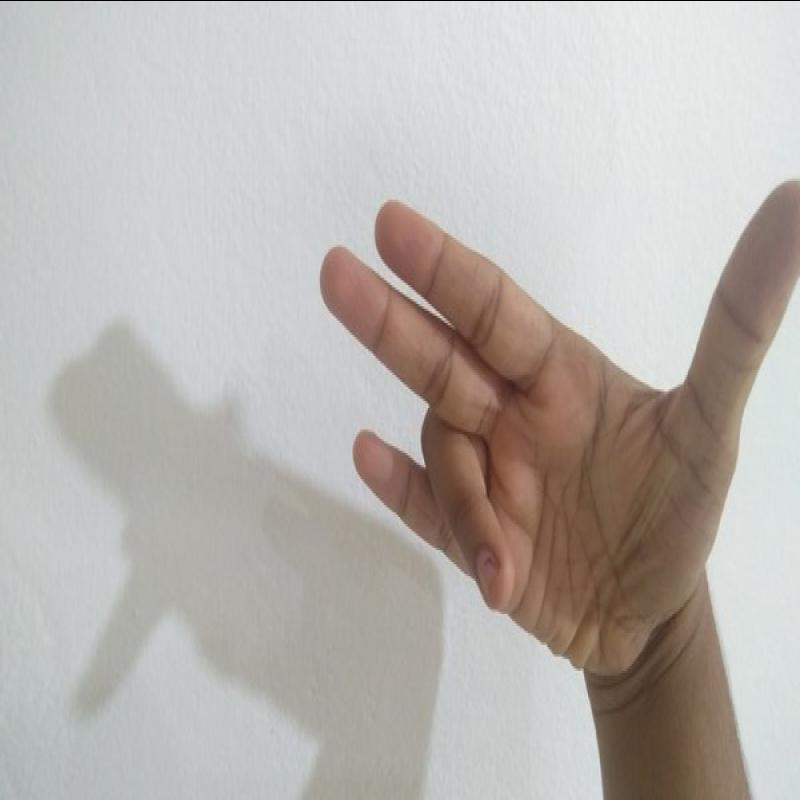Pathaaka: (296, 171, 800, 691)
